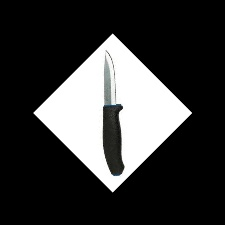k1: (101, 48, 123, 113)
